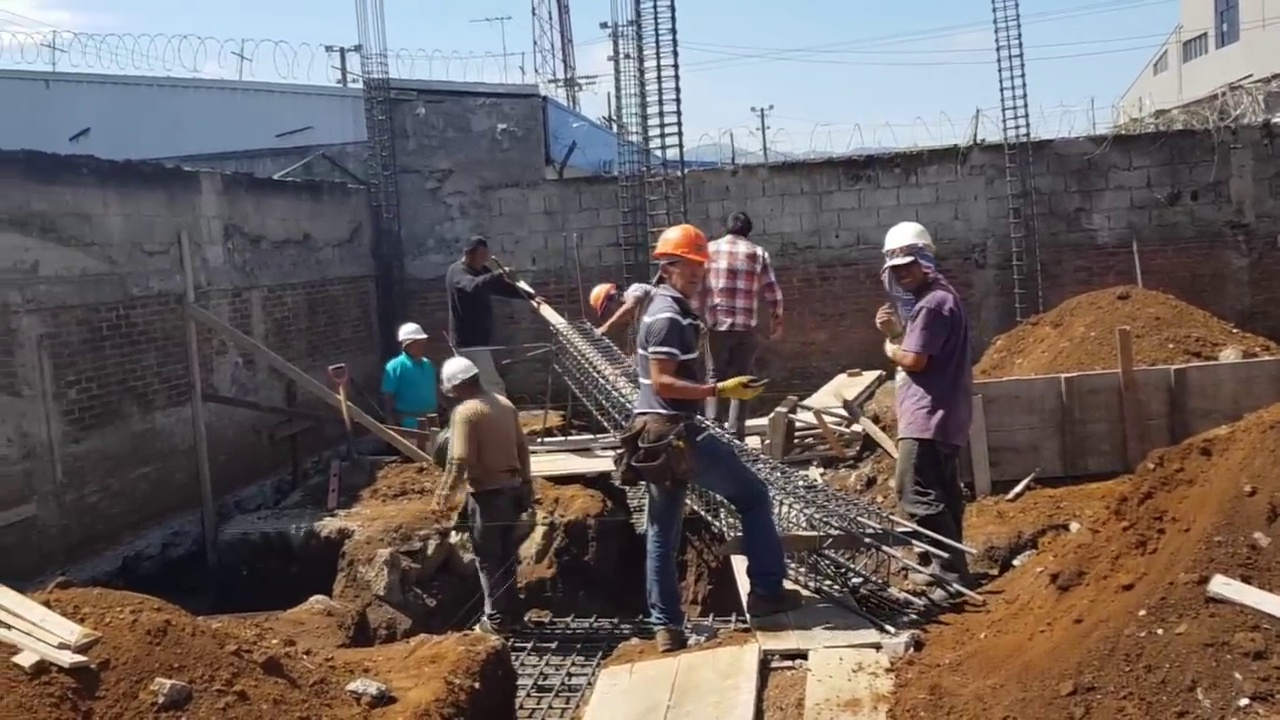helmet: (880, 223, 941, 268), (655, 225, 713, 264), (440, 353, 480, 393), (589, 283, 617, 318), (394, 325, 425, 345)
helmet-off: (724, 215, 758, 246), (458, 240, 487, 271)
helmet-on: (655, 225, 713, 300), (885, 221, 942, 296), (439, 354, 482, 409), (590, 282, 627, 320), (394, 321, 429, 361)
person: (616, 226, 784, 641), (876, 221, 978, 607), (441, 346, 535, 666), (698, 206, 780, 449), (449, 243, 546, 405), (376, 315, 435, 436), (588, 281, 661, 352)
